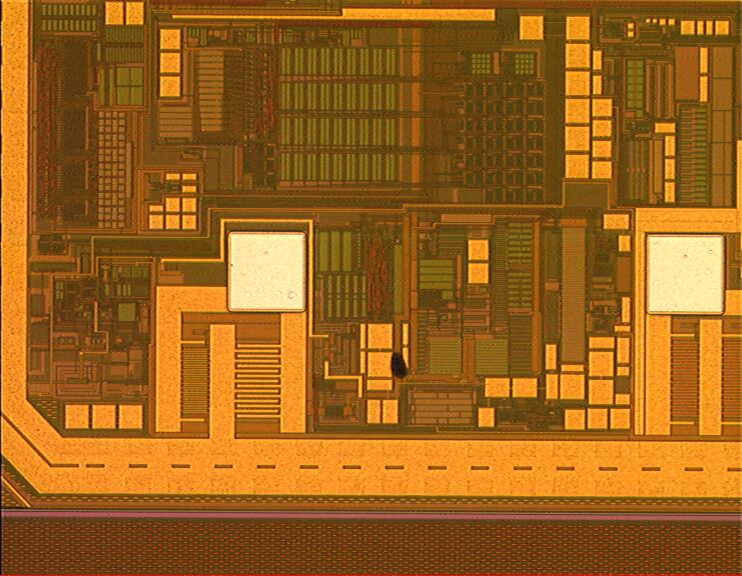PIQ PARTICLE: (385, 349, 417, 381)
